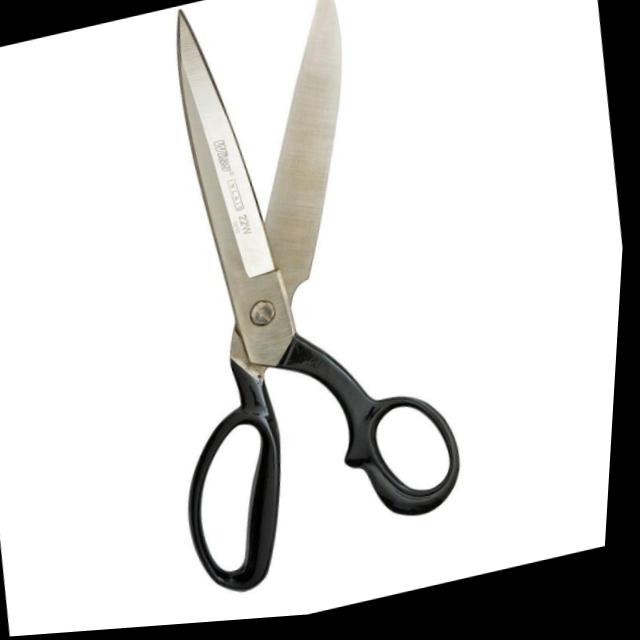scissor: (67, 0, 520, 626)
